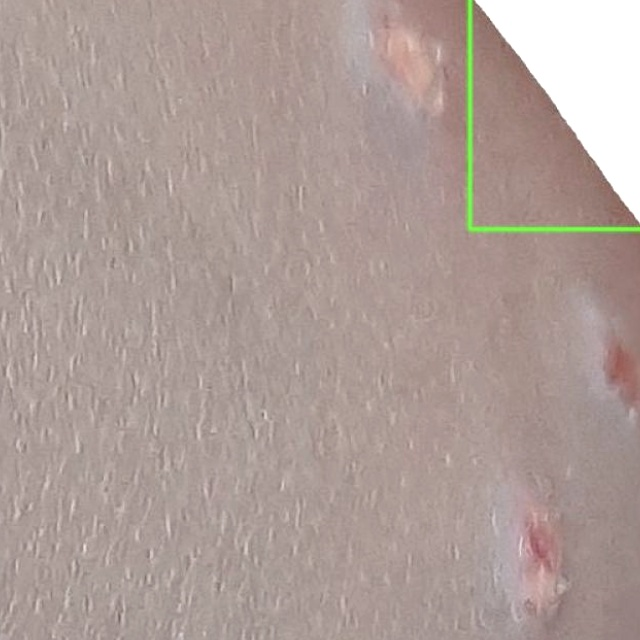Eczema: (470, 0, 639, 229)
